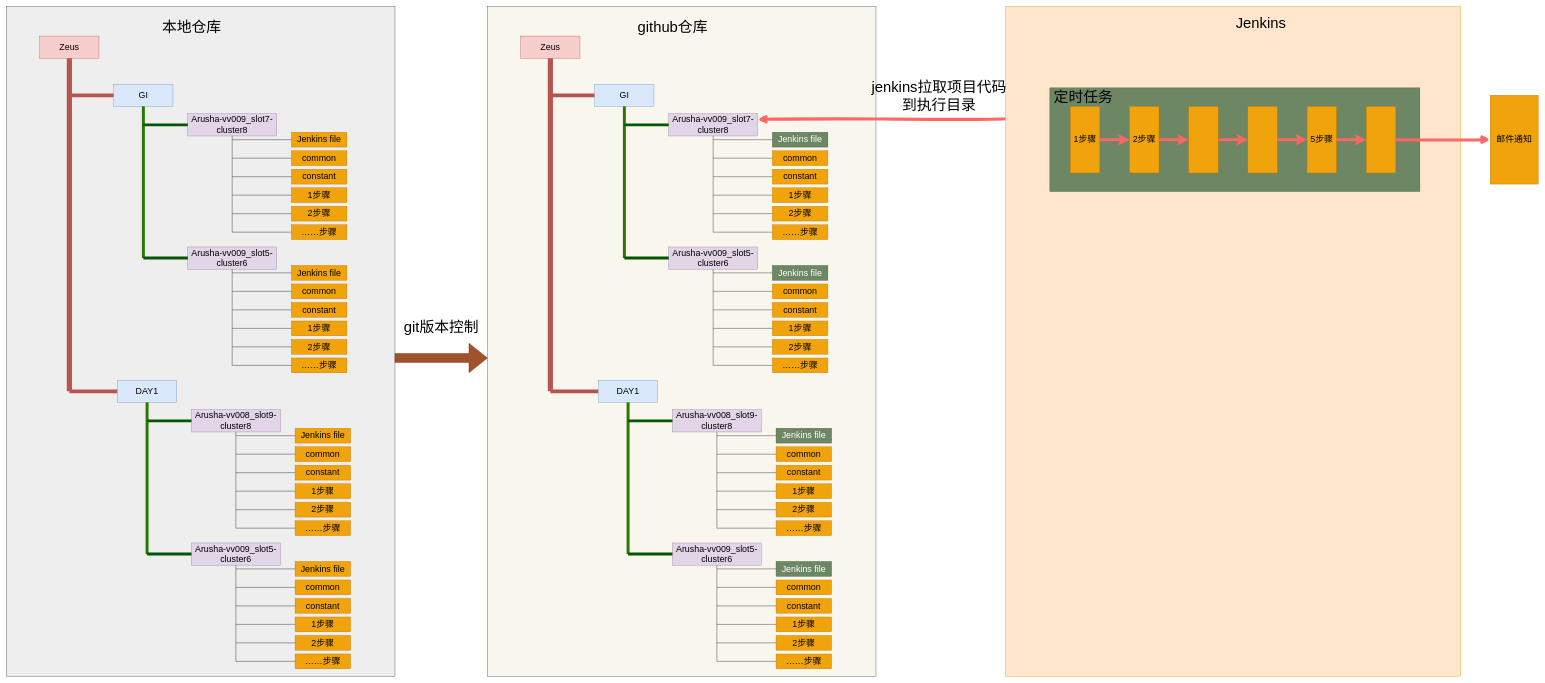
This 1545x683 diagram has some shape labels left out. Each missing label, with the box of its shape:
3步骤: (1188, 106, 1218, 173)
4步骤: (1247, 106, 1277, 173)
6步骤: (1366, 106, 1396, 173)
